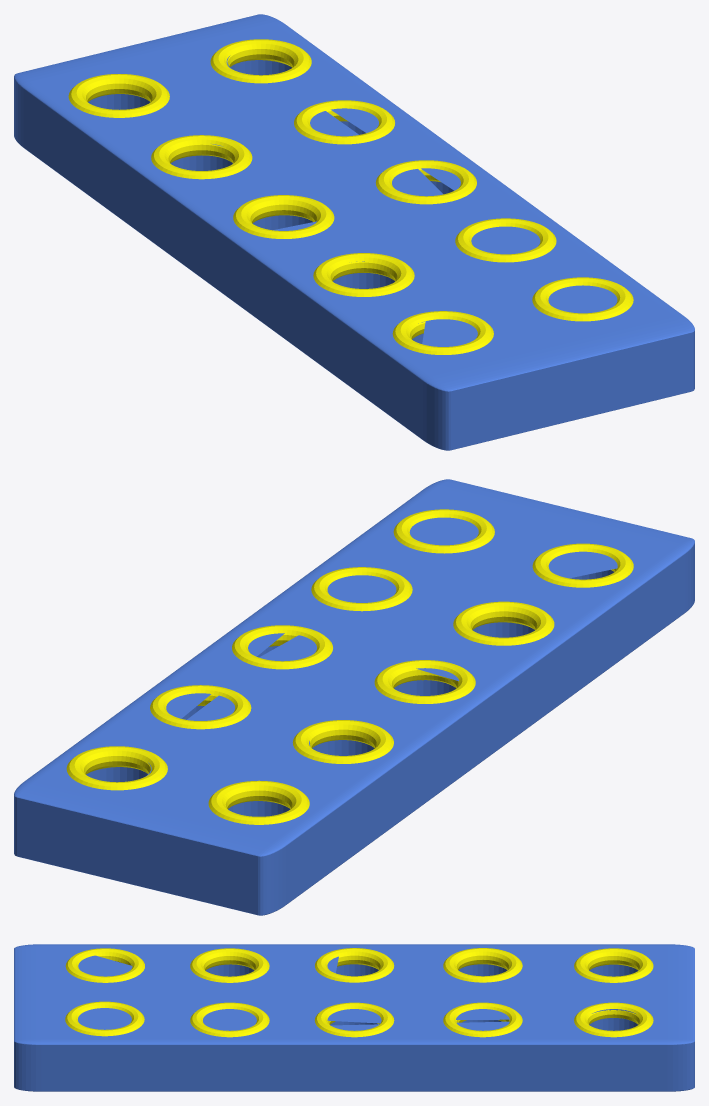
Rendered from fire vfx hole.fbx.
3 views of the same model, one above another, from view 1: azimuth 30°, elevation 25°; view 2: azimuth 150°, elevation 25°; view 3: azimuth 270°, elevation 25° (orthographic). The views are drawn at different scales.
Visible parts, largest first — view 1: Cube, Torus.009, Torus.003, Torus, Torus.004, Torus.001, Torus.002, Torus.005, Torus.008, Torus.007, Torus.006; view 2: Cube, Torus.009, Torus.001, Torus.004, Torus.003, Torus, Torus.005, Torus.008, Torus.002, Torus.007, Torus.006; view 3: Cube, Torus.003, Torus.004, Torus.001, Torus.009, Torus, Torus.002, Torus.008, Torus.005, Torus.007, Torus.006.
Part boxes in pixels (x1,y1,x2,y2): Cube: (14, 14, 694, 450); Torus.009: (210, 39, 311, 83); Torus.003: (151, 135, 252, 179); Torus: (233, 195, 334, 238); Torus.004: (68, 74, 169, 117); Torus.001: (313, 253, 414, 296); Torus.002: (392, 311, 493, 354); Torus.005: (375, 160, 476, 204); Torus.008: (294, 100, 394, 144); Torus.007: (532, 277, 633, 321); Torus.006: (455, 218, 556, 262); Cube: (14, 479, 694, 915); Torus.009: (66, 746, 167, 790); Torus.001: (453, 601, 554, 645); Torus.004: (208, 780, 309, 824); Torus.003: (292, 720, 393, 763); Torus: (374, 660, 475, 703); Torus.005: (232, 625, 332, 669); Torus.008: (150, 685, 251, 729); Torus.002: (532, 543, 633, 587); Torus.007: (393, 509, 494, 553); Torus.006: (311, 567, 412, 611); Cube: (14, 944, 694, 1091); Torus.003: (443, 948, 522, 982); Torus.004: (574, 948, 653, 982); Torus.001: (190, 948, 269, 982); Torus.009: (574, 1002, 653, 1037); Torus: (315, 948, 394, 982); Torus.002: (65, 948, 144, 982); Torus.008: (443, 1002, 522, 1037); Torus.005: (314, 1002, 394, 1037); Torus.007: (65, 1001, 144, 1036); Torus.006: (190, 1002, 269, 1037).
Bounding box in the file's own units: 160 × 39.42 × 458.
